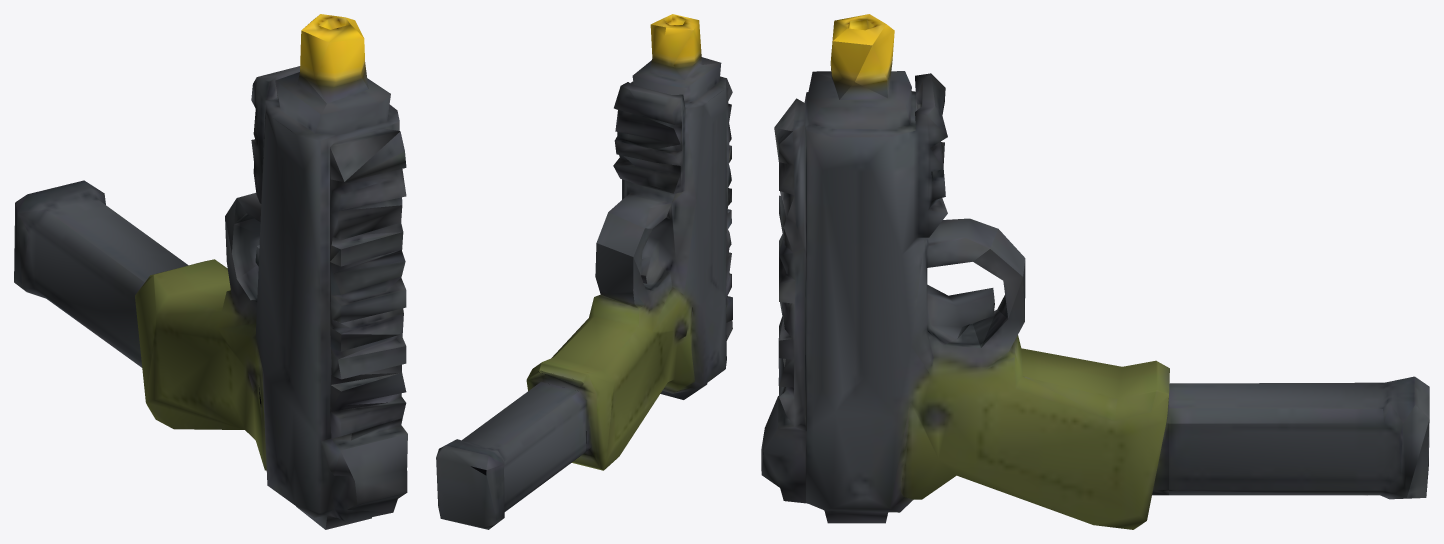
The model's file is rattler.glb.
3 renders of one model, left to right at view 1: azimuth 30°, elevation 25°; view 2: azimuth 150°, elevation 25°; view 3: azimuth 270°, elevation 25°, orthographic. The views are drawn at different scales.
Visible parts, largest first — view 1: rattler, part_mag; view 2: rattler, part_mag; view 3: rattler, part_mag.
Boxes of the visible parts, box(x1,y1,x2,y2) form: rattler: box(15, 14, 407, 529); part_mag: box(14, 180, 188, 367); rattler: box(526, 14, 732, 470); part_mag: box(436, 370, 586, 529); rattler: box(761, 14, 1168, 529); part_mag: box(1169, 368, 1429, 499).
Bounding box in the file's own units: 0.069 × 0.3106 × 0.3845.
1 material, 1 textured.
